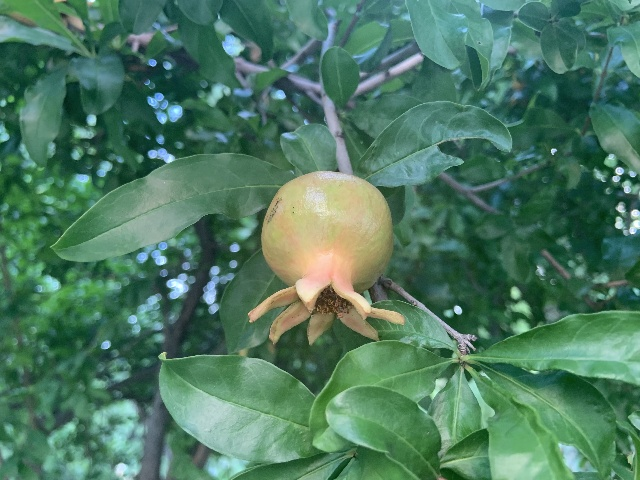mid-growth: (249, 171, 405, 348)
